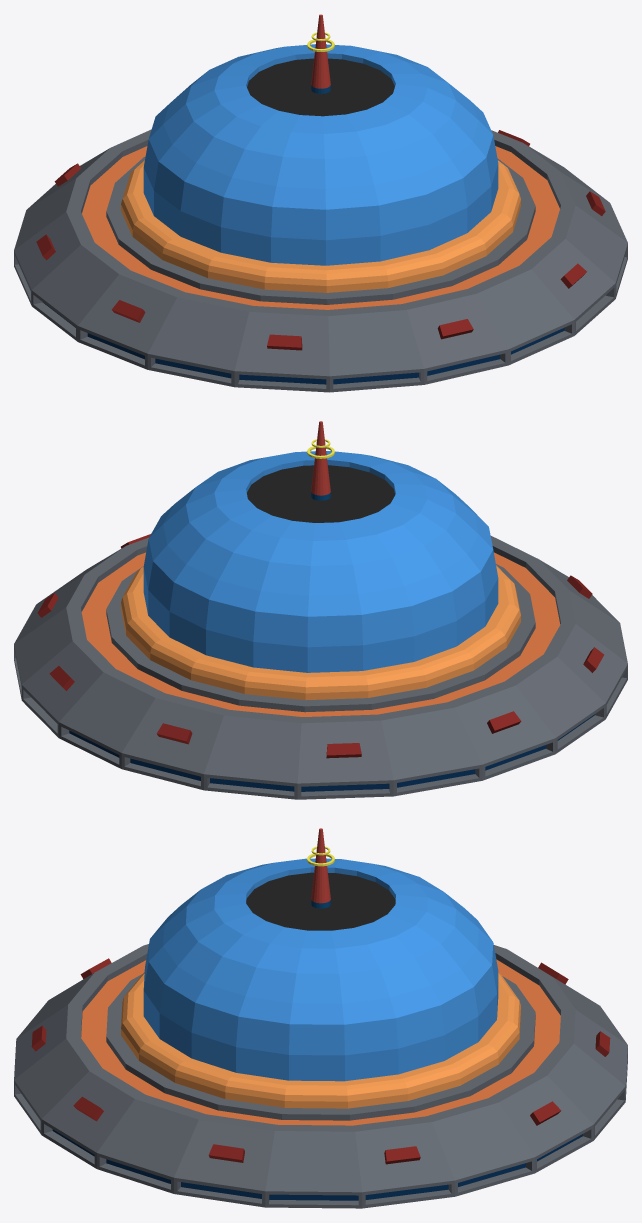
3 renders of one model, top to bottom at view 1: azimuth 30°, elevation 25°; view 2: azimuth 150°, elevation 25°; view 3: azimuth 270°, elevation 25°, orthographic.
Parts seen in each view (by area): view 1: UFO 2_UFO_0; view 2: UFO 2_UFO_0; view 3: UFO 2_UFO_0.
Part boxes in pixels (<box>): UFO 2_UFO_0: <box>14,14,627,392</box>; UFO 2_UFO_0: <box>14,421,627,799</box>; UFO 2_UFO_0: <box>14,828,627,1208</box>.
Bounding box in the file's own units: 0.7166 × 0.3917 × 0.7166.
1 material, 1 textured.
